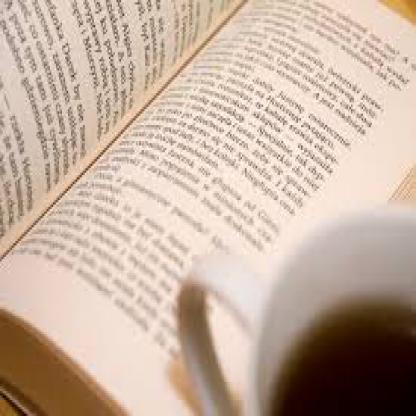paper: (0, 0, 415, 414), (0, 0, 247, 253)
